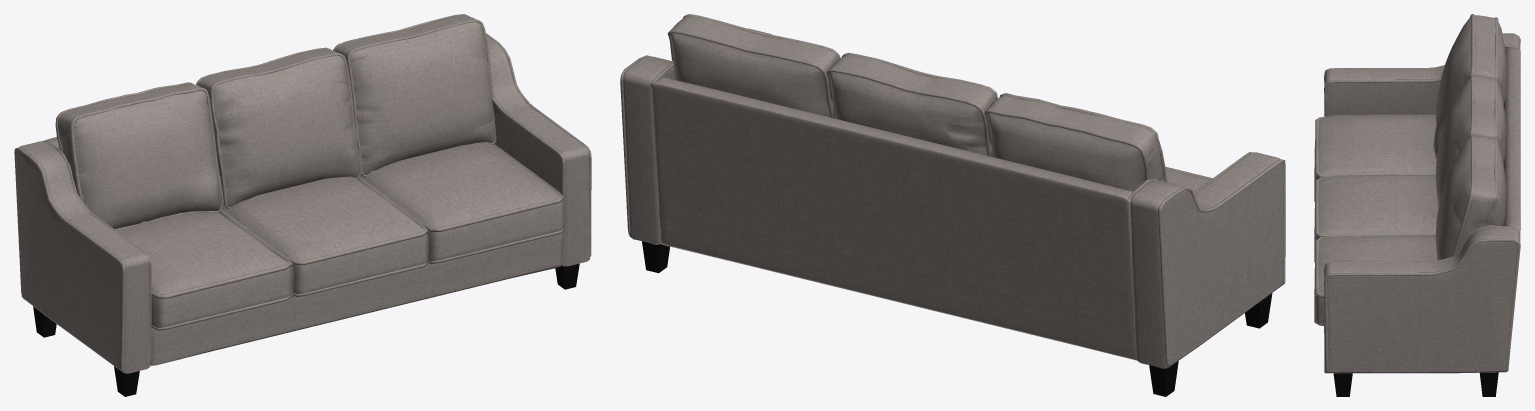
Rendered from abo-B07B4DB68P.glb.
3 renders of one model, left to right at view 1: azimuth 30°, elevation 25°; view 2: azimuth 150°, elevation 25°; view 3: azimuth 270°, elevation 25°, orthographic. The views are drawn at different scales.
Bounding box in the file's own units: 2.13 × 0.9499 × 0.899.
1 material, 1 textured.
